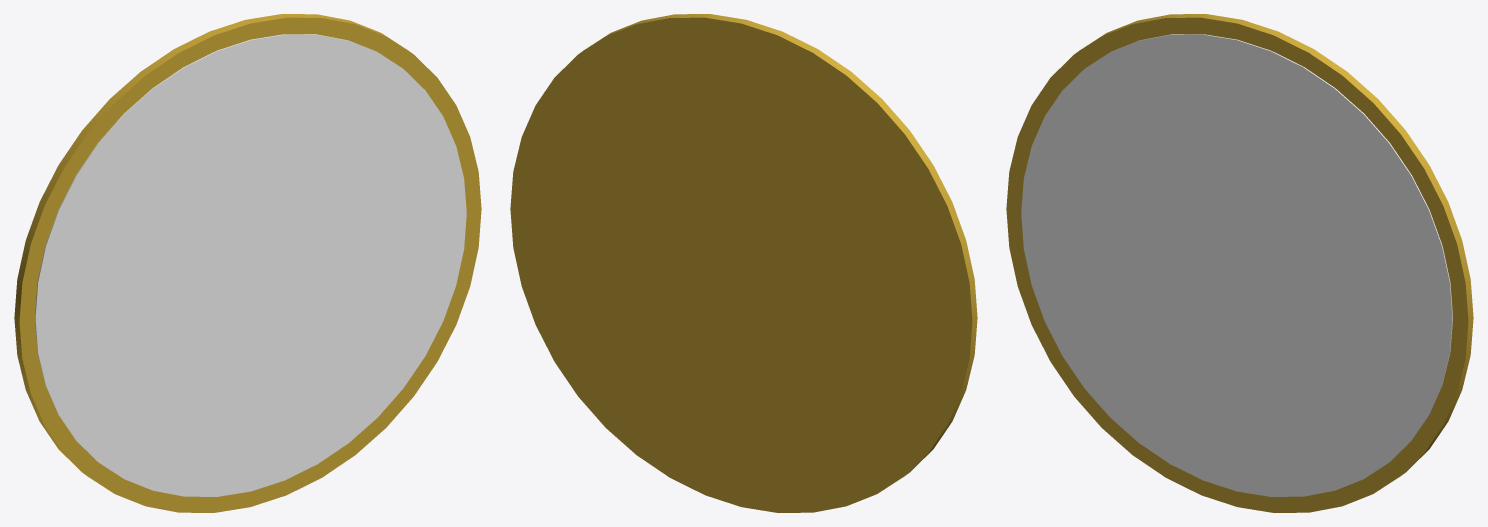
Rendered from 31367IN-BGL.glb.
The picture shows the model from 3 angles, left to right: view 1: azimuth 30°, elevation 25°; view 2: azimuth 150°, elevation 25°; view 3: azimuth 330°, elevation 25°; orthographic projection.
Parts seen in each view (by area): view 1: Kohler_Essential_55_Round_Mirror; view 2: Kohler_Essential_55_Round_Mirror; view 3: Kohler_Essential_55_Round_Mirror.
Part boxes in pixels (x1,y1,x2,y2): Kohler_Essential_55_Round_Mirror: [14, 14, 481, 512]; Kohler_Essential_55_Round_Mirror: [510, 14, 977, 512]; Kohler_Essential_55_Round_Mirror: [1006, 14, 1473, 512].
Size of the model in its own units: 2.1 by 2.1 by 0.045.
